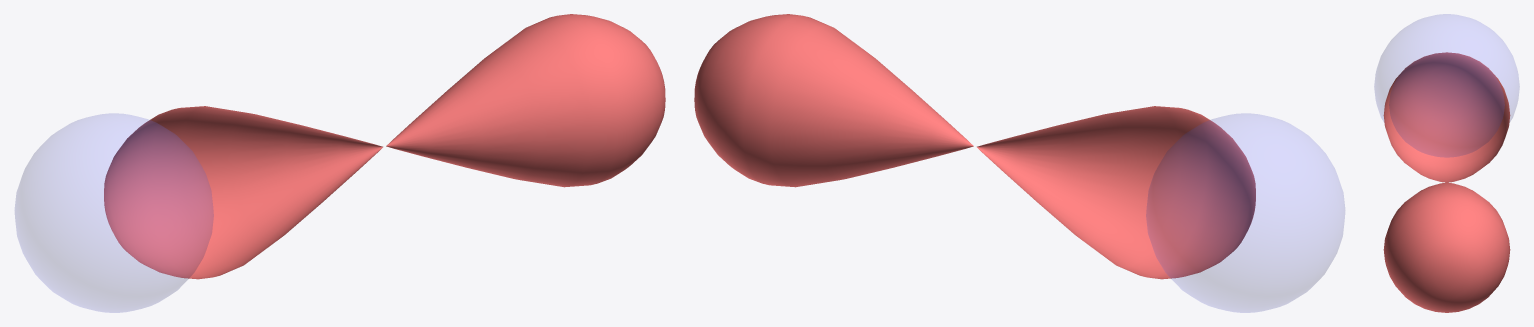
File: s053_4.03b_prekryv_s-p.glb
The picture shows the model from 3 angles, left to right: view 1: azimuth 30°, elevation 25°; view 2: azimuth 150°, elevation 25°; view 3: azimuth 270°, elevation 25°; orthographic projection. The views are drawn at different scales.
Parts seen in each view (by area): view 1: hybrid.003_Sphere.001, Sphere_Sphere.002; view 2: hybrid.003_Sphere.001, Sphere_Sphere.002; view 3: hybrid.003_Sphere.001, Sphere_Sphere.002.
Boxes of the visible parts, x1,y1,x2,y2 form: hybrid.003_Sphere.001: (104, 14, 665, 279); Sphere_Sphere.002: (15, 113, 213, 312); hybrid.003_Sphere.001: (694, 14, 1255, 279); Sphere_Sphere.002: (1146, 113, 1344, 312); hybrid.003_Sphere.001: (1383, 52, 1510, 312); Sphere_Sphere.002: (1374, 14, 1519, 157).
Bounding box in the file's own units: 0.9406 × 0.26 × 0.26.
